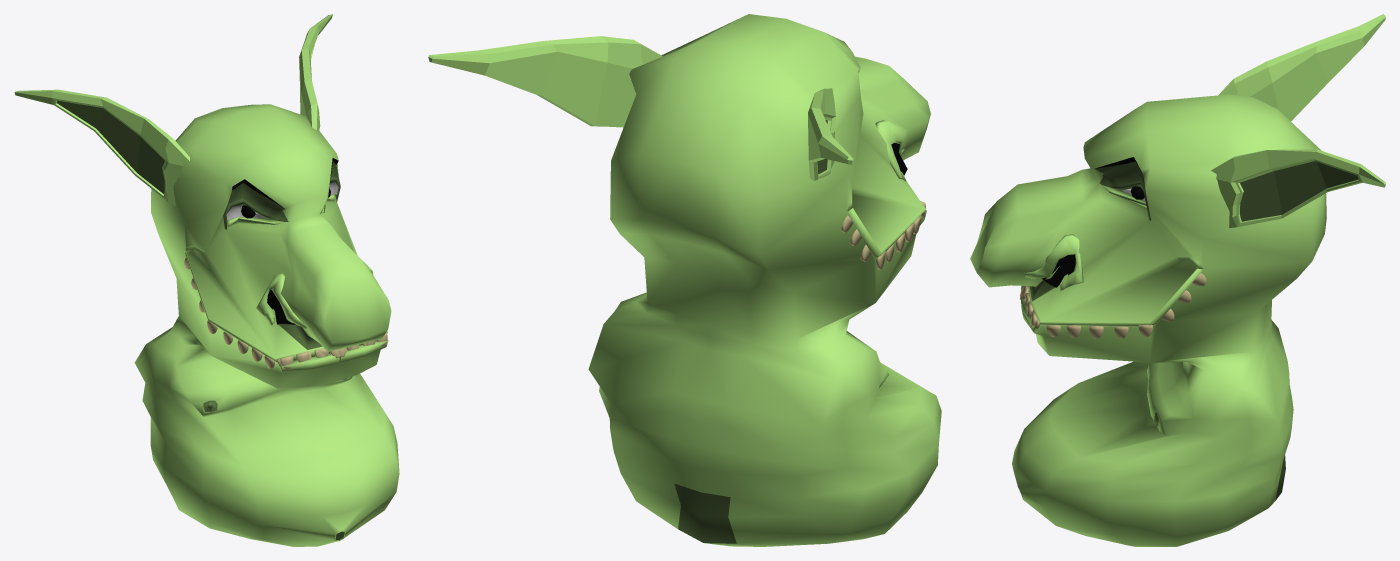
Rendered from Goblins.fbx.
The picture shows the model from 3 angles, left to right: view 1: azimuth 30°, elevation 25°; view 2: azimuth 150°, elevation 25°; view 3: azimuth 270°, elevation 25°; orthographic projection. The views are drawn at different scales.
Parts seen in each view (by area): view 1: Plane; view 2: Plane; view 3: Plane.
Boxes of the visible parts, <box> form: Plane: <box>14,14,399,546</box>; Plane: <box>428,14,941,546</box>; Plane: <box>970,14,1385,546</box>.
Bounding box in the file's own units: 1.74 × 2.08 × 1.81.
